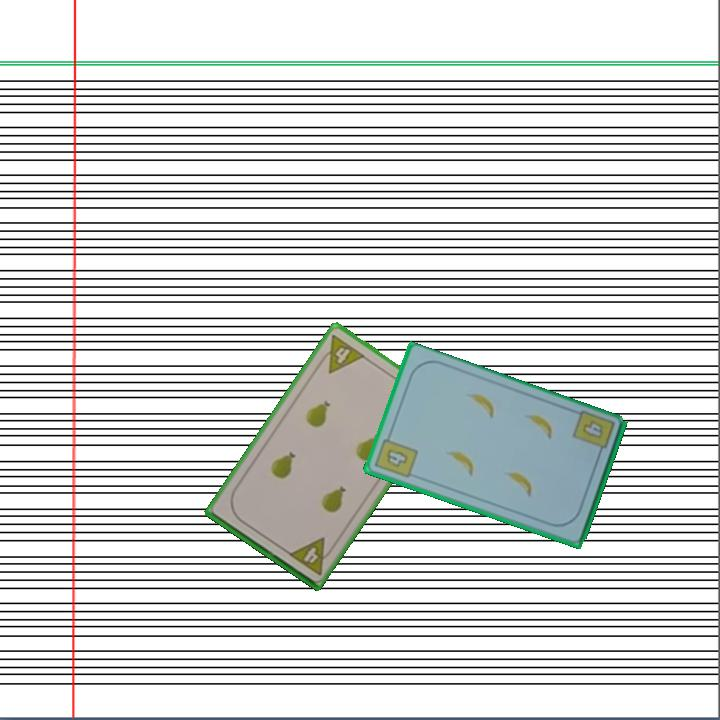4b: (371, 430, 421, 481), (569, 407, 617, 460)
4p: (314, 331, 368, 376), (285, 534, 337, 578)
